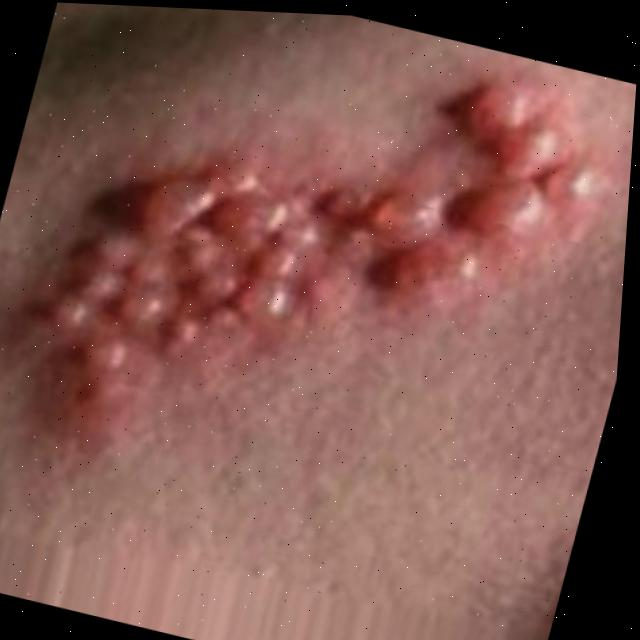Shingles: (6, 2, 627, 510)
